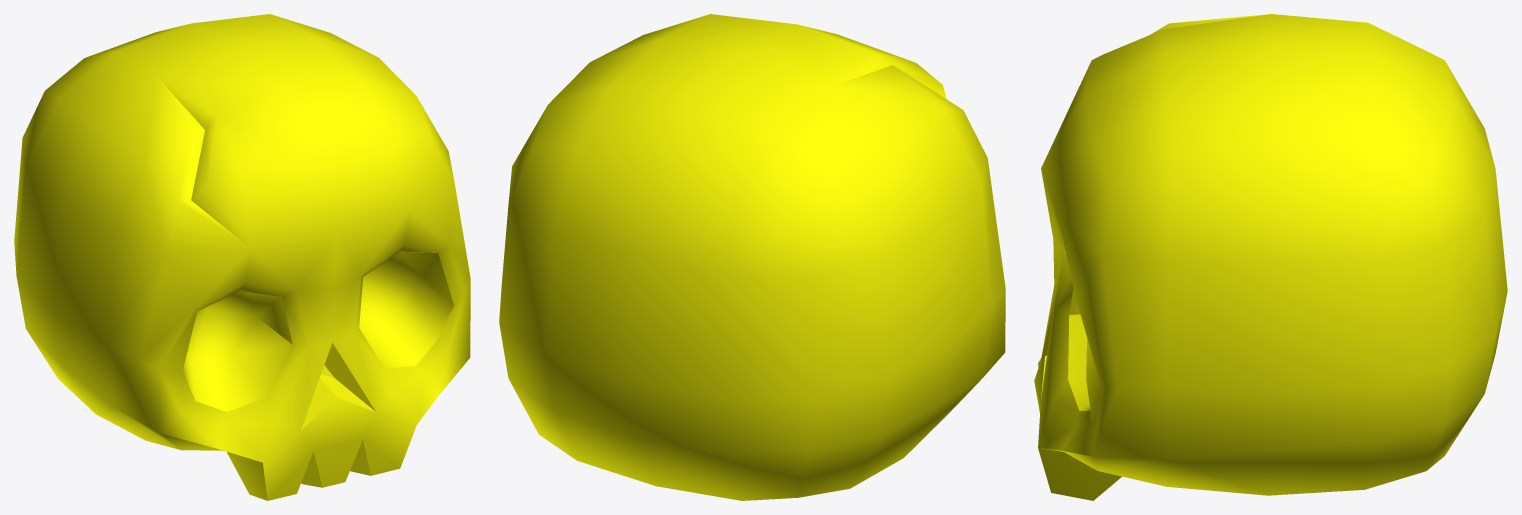
File: kaykit-halloween-skull.glb
3 renders of one model, left to right at view 1: azimuth 30°, elevation 25°; view 2: azimuth 150°, elevation 25°; view 3: azimuth 270°, elevation 25°, orthographic. The views are drawn at different scales.
Visible parts, largest first — view 1: skull; view 2: skull; view 3: skull.
Part boxes in pixels (x1=…): skull: x1=14, y1=14, x2=470, y2=500; skull: x1=499, y1=14, x2=1005, y2=500; skull: x1=1034, y1=14, x2=1507, y2=500.
Bounding box in the file's own units: 0.9176 × 0.8982 × 0.9072.
